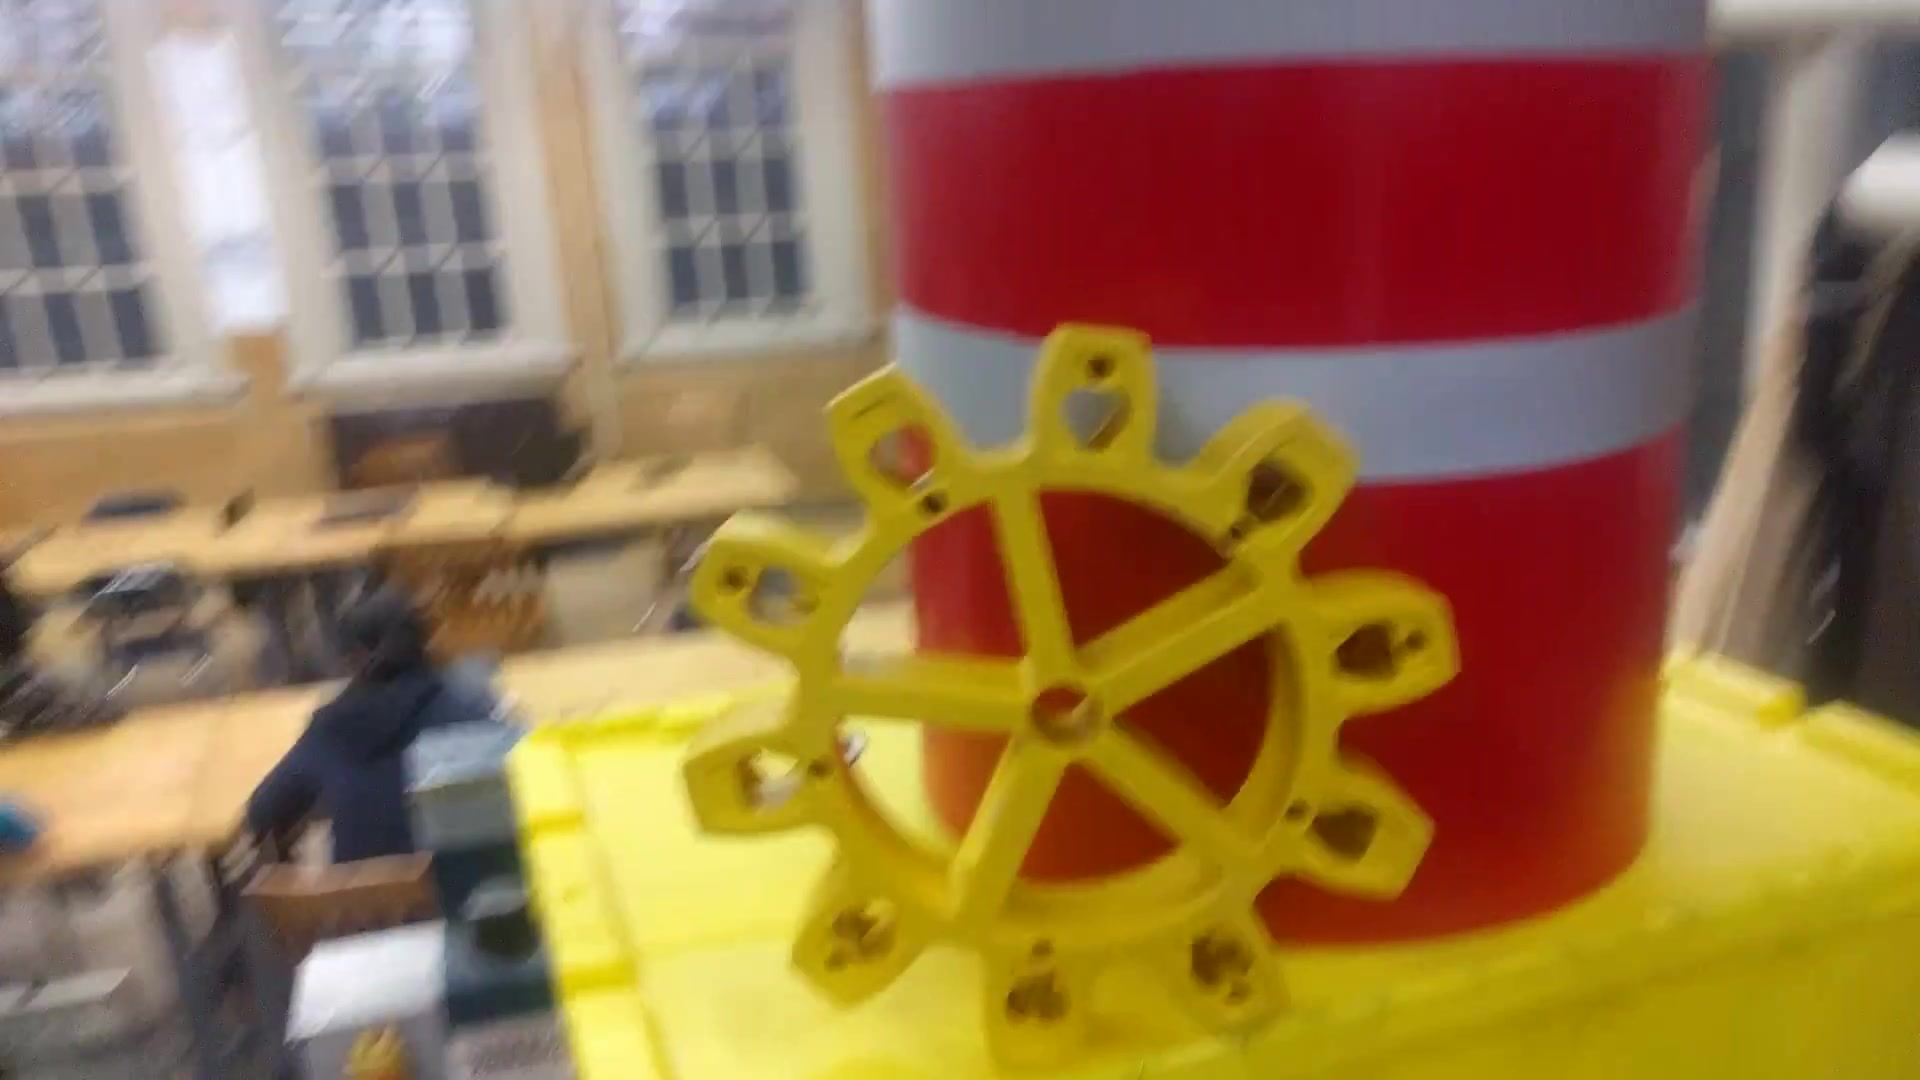gear: (674, 316, 1462, 1063)
